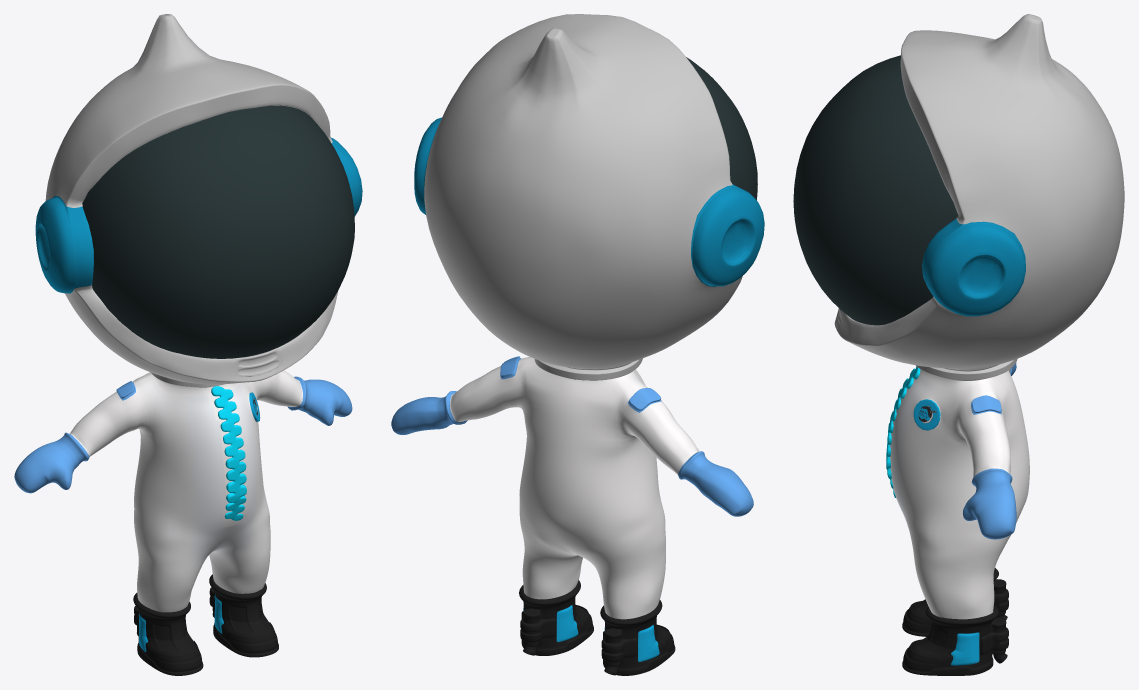
Rendered from astronaut.glb.
3 renders of one model, left to right at view 1: azimuth 30°, elevation 25°; view 2: azimuth 150°, elevation 25°; view 3: azimuth 270°, elevation 25°, orthographic. The views are drawn at different scales.
Visible parts, largest first — view 1: pasted__Lente_nino, polySurface3, Casco_nino, pie_n_izq, pie_n_der, broche_nino, polySurface4; view 2: Casco_nino, polySurface3, pie_n_izq, pie_n_der, pasted__Lente_nino; view 3: Casco_nino, pasted__Lente_nino, polySurface3, pie_n_izq, pie_n_der, broche_nino.
Boxes of the visible parts, <box> form: pasted__Lente_nino: <box>82,105,354,358</box>; polySurface3: <box>14,370,352,612</box>; Casco_nino: <box>35,14,362,387</box>; pie_n_izq: <box>209,574,278,657</box>; pie_n_der: <box>133,592,203,675</box>; broche_nino: <box>211,386,246,520</box>; polySurface4: <box>208,389,247,527</box>; Casco_nino: <box>414,14,764,380</box>; polySurface3: <box>391,356,753,619</box>; pie_n_izq: <box>519,580,593,655</box>; pie_n_der: <box>600,600,675,675</box>; pasted__Lente_nino: <box>686,57,757,200</box>; Casco_nino: <box>834,14,1124,380</box>; pasted__Lente_nino: <box>793,55,958,325</box>; polySurface3: <box>891,363,1029,619</box>; pie_n_izq: <box>902,605,1008,675</box>; pie_n_der: <box>902,568,1008,636</box>; broche_nino: <box>886,366,920,497</box>.
Size of the model in its own units: 1.27 by 2.23 by 1.06.
Materials: 6 (4 with a texture image).
